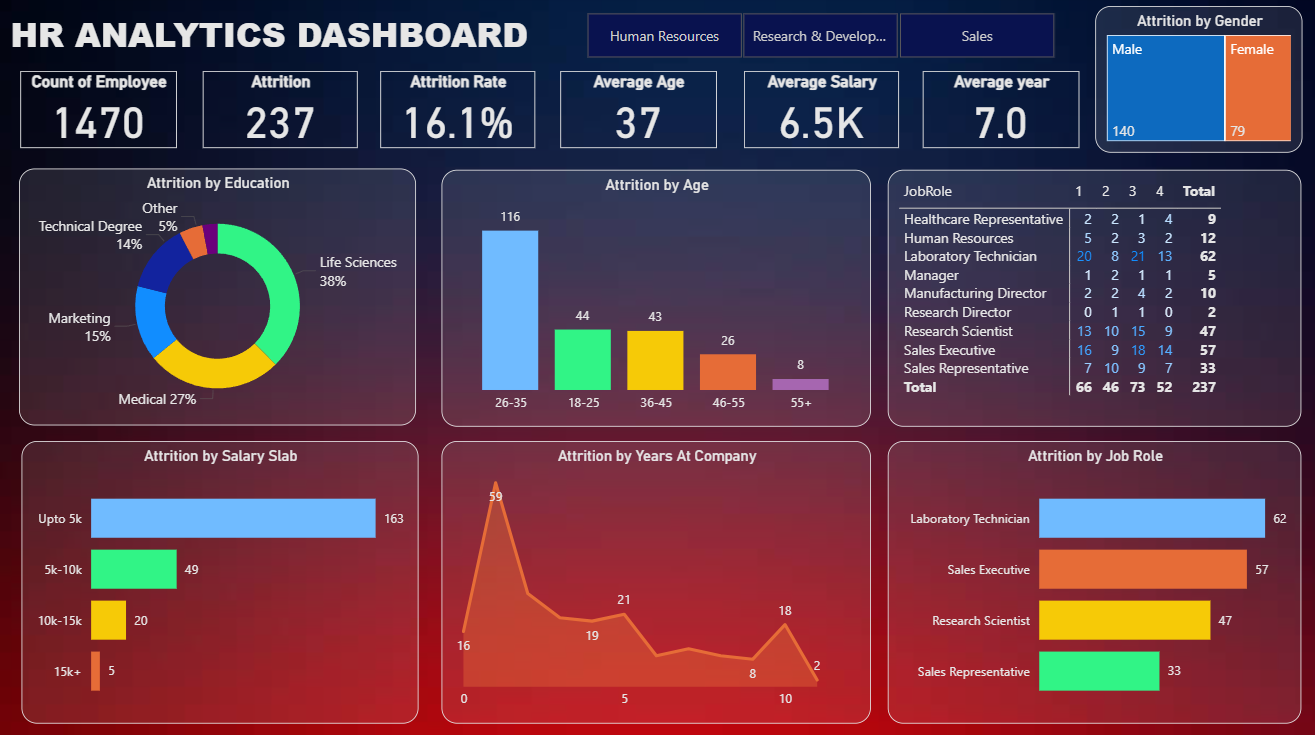

Layout of this report page (visuals, bound fields, positions):
{"tool":"powerbi","page":{"name":"Page 1","canvas":[1280,720],"ordinal":0},"visuals":[{"type":"card","title":"Count of Employee","fields":{"Values":["CountNonNull(HR_Analytics.EmpID)"]},"box":[25.3,72.9,150.8,74.8],"z":0},{"type":"card","title":"Attrition","fields":{"Values":["Sum(HR_Analytics.AttritionCount)"]},"box":[201.5,72.9,149.6,74.8],"z":1000},{"type":"card","title":"Attrition Rate","fields":{"Values":["HR_Analytics.AttritionRate"]},"box":[372.8,72.9,149.6,74.8],"z":2000},{"type":"card","title":"Average Age","fields":{"Values":["Avg(HR_Analytics.Age)"]},"box":[546.5,72.9,150.8,74.8],"z":3000},{"type":"card","title":"Average year","fields":{"Values":["Avg(HR_Analytics.YearsAtCompany)"]},"box":[896.4,72.9,150.8,74.8],"z":4000},{"type":"card","title":"Average Salary","fields":{"Values":["Avg(HR_Analytics.MonthlyIncome)"]},"box":[723.9,72.9,149.6,74.8],"z":5000},{"type":"donutChart","title":" Attrition by Education","fields":{"Category":["HR_Analytics.EducationField"],"Y":["Sum(HR_Analytics.AttritionCount)"]},"box":[24.7,166,382.8,248.4],"z":6000},{"type":"columnChart","title":" Attrition by Age","fields":{"Category":["HR_Analytics.AgeGroup"],"Y":["Sum(HR_Analytics.AttritionCount)"]},"box":[432.2,167.4,414.4,248.4],"z":7000},{"type":"pivotTable","fields":{"Rows":["HR_Analytics.JobRole"],"Columns":["HR_Analytics.JobSatisfaction"],"Values":["Sum(HR_Analytics.AttritionCount)"]},"box":[863.1,167.4,399.3,248.4],"z":8000},{"type":"barChart","title":" Attrition by Salary Slab","fields":{"Category":["HR_Analytics.SalarySlab"],"Y":["Sum(HR_Analytics.AttritionCount)"]},"box":[26.1,429.5,382.8,273.1],"z":8001},{"type":"barChart","title":" Attrition by Job Role","fields":{"Category":["HR_Analytics.JobRole"],"Y":["Sum(HR_Analytics.AttritionCount)"]},"box":[863.1,429.5,399.3,273.1],"z":8002},{"type":"areaChart","title":" Attrition by Years At Company","fields":{"Category":["HR_Analytics.YearsAtCompany"],"Y":["Sum(HR_Analytics.AttritionCount)"]},"box":[432.2,429.5,414.4,273.1],"z":8003},{"type":"treemap","title":" Attrition by Gender","fields":{"Group":["HR_Analytics.Gender"],"Values":["Sum(HR_Analytics.AttritionCount)"]},"box":[1063.5,9.6,200.3,141.3],"z":8004},{"type":"slicer","fields":{"Values":["HR_Analytics.Department"]},"box":[546.1,9.6,500.9,56.3],"z":8005},{"type":"textbox","box":[11,9.6,521.4,63.1],"z":8006}]}

Visuals, with their boxes in screenshot pixels (x1, y1, x2, y2), scaled from the page's 1280x720 canvas onto the 1315x735 screenshot:
"Count of Employee" card: [left=26, top=74, right=181, bottom=151]
"Attrition" card: [left=207, top=74, right=361, bottom=151]
"Attrition Rate" card: [left=383, top=74, right=537, bottom=151]
"Average Age" card: [left=561, top=74, right=716, bottom=151]
"Average year" card: [left=921, top=74, right=1076, bottom=151]
"Average Salary" card: [left=744, top=74, right=897, bottom=151]
" Attrition by Education" donutChart: [left=25, top=169, right=419, bottom=423]
" Attrition by Age" columnChart: [left=444, top=171, right=870, bottom=424]
pivotTable - HR_Analytics.JobRole x HR_Analytics.JobSatisfaction: [left=887, top=171, right=1297, bottom=424]
" Attrition by Salary Slab" barChart: [left=27, top=438, right=420, bottom=717]
" Attrition by Job Role" barChart: [left=887, top=438, right=1297, bottom=717]
" Attrition by Years At Company" areaChart: [left=444, top=438, right=870, bottom=717]
" Attrition by Gender" treemap: [left=1093, top=10, right=1298, bottom=154]
slicer - HR_Analytics.Department: [left=561, top=10, right=1076, bottom=67]
textbox: [left=11, top=10, right=547, bottom=74]
